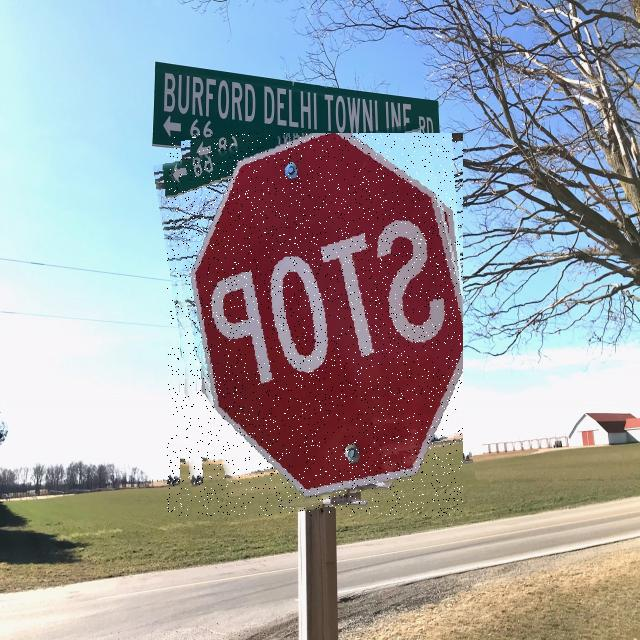stop: (167, 133, 463, 516)
